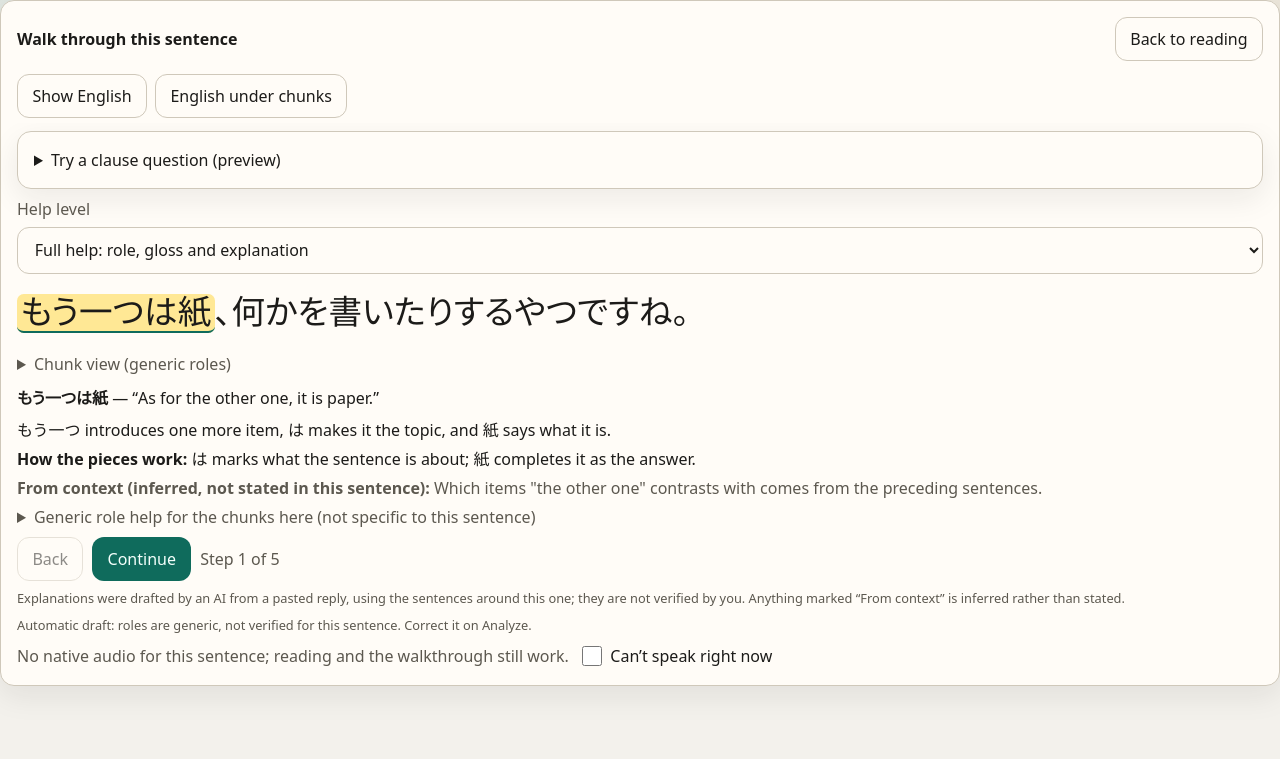
SentenceWalkthrough › leads with the contextual explanation, keeps the sentence visible with the span highlighted, and ends with the natural meaning
This screenshot has width=1280, height=759.
expect the element named "Sentence walkthrough" shows "As for the other one, it is paper.": met, box [138,387,373,409]
expect the text "もう一つは紙" next to "、何かを書いたりするやつですね。" is shown: met, box [20,294,211,331]
Click the button "Continue" at (142, 559), box [92,537,191,581]
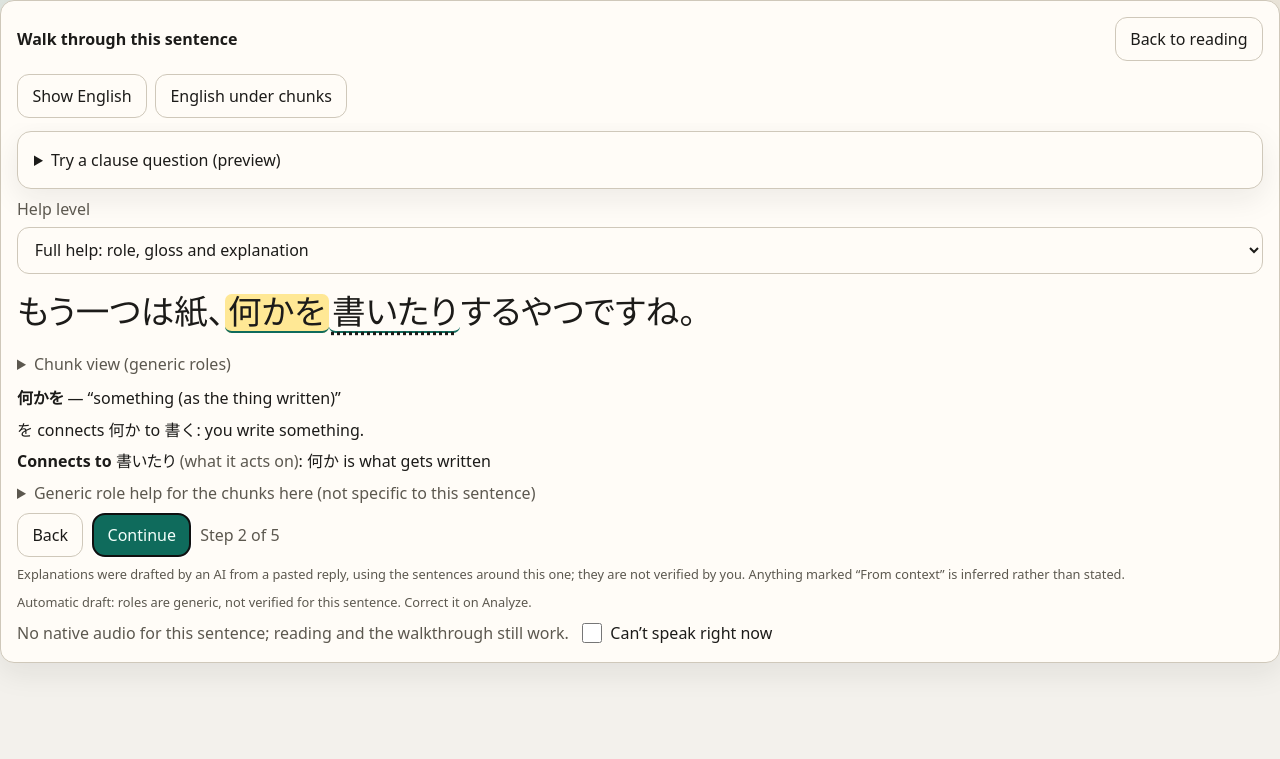
Click the button "Continue" at (142, 536), box [92,514,191,558]
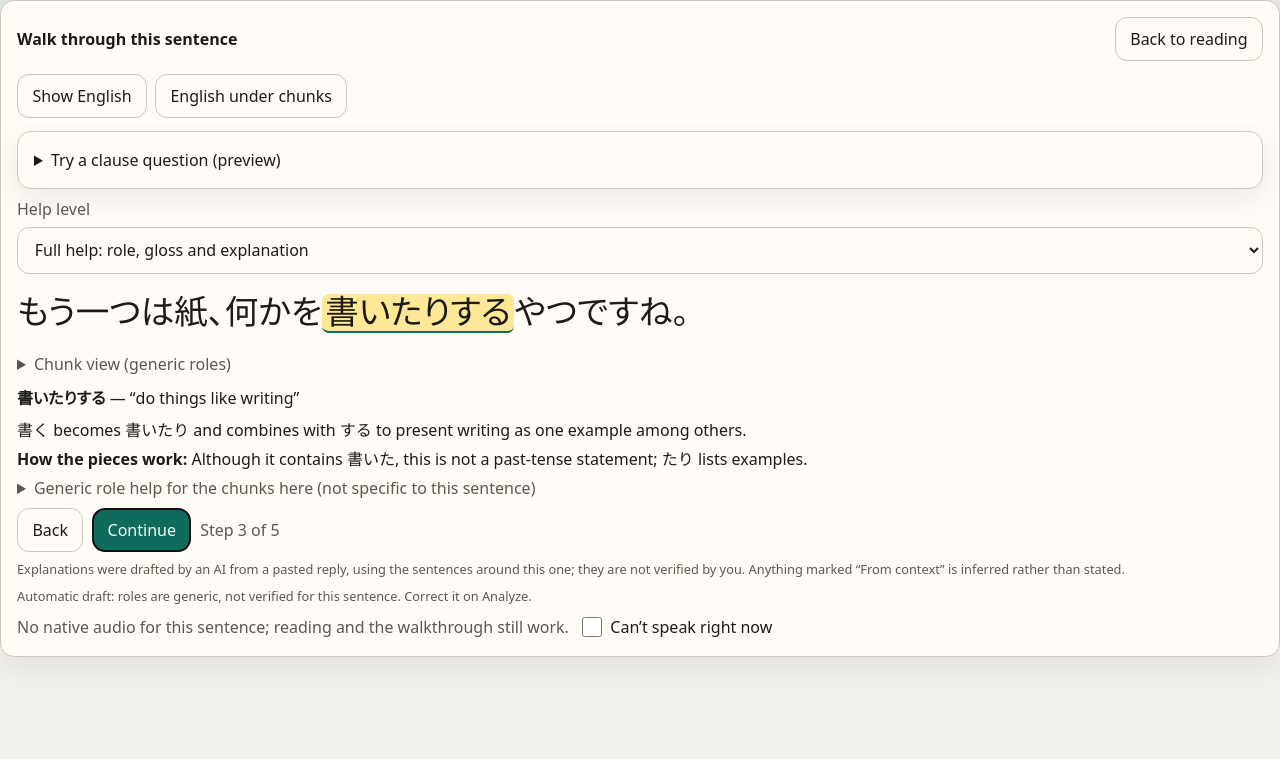
Click the button "Continue" at (142, 530), box [92,508,191,552]
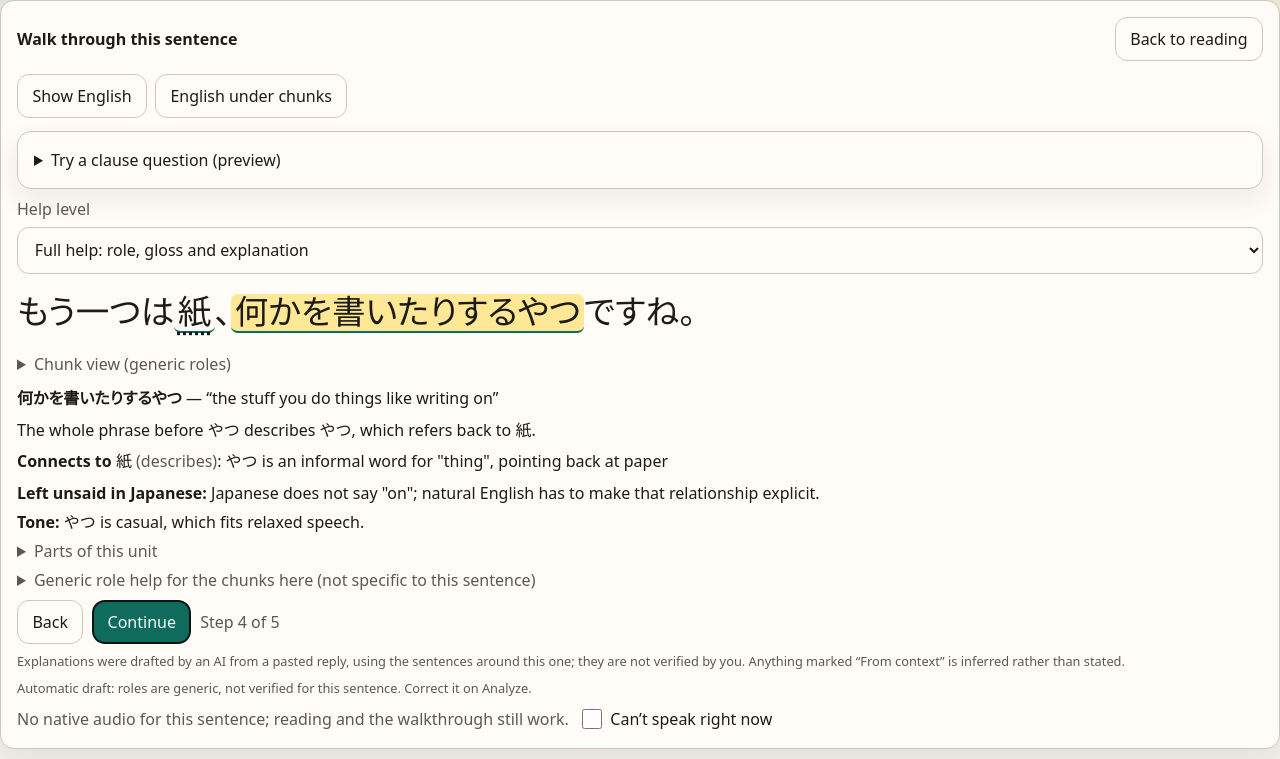
expect the element named "Sentence walkthrough" shows "Left unsaid in Japanese": met, box [17,482,211,504]
expect the text "紙" next to "もう一つは" is shown: met, box [178,294,211,331]
expect the text "何かを書いたりするやつ" next to "ですね。" is shown: met, box [235,294,581,331]
Click the button "Continue" at (142, 622), box [92,600,191,644]
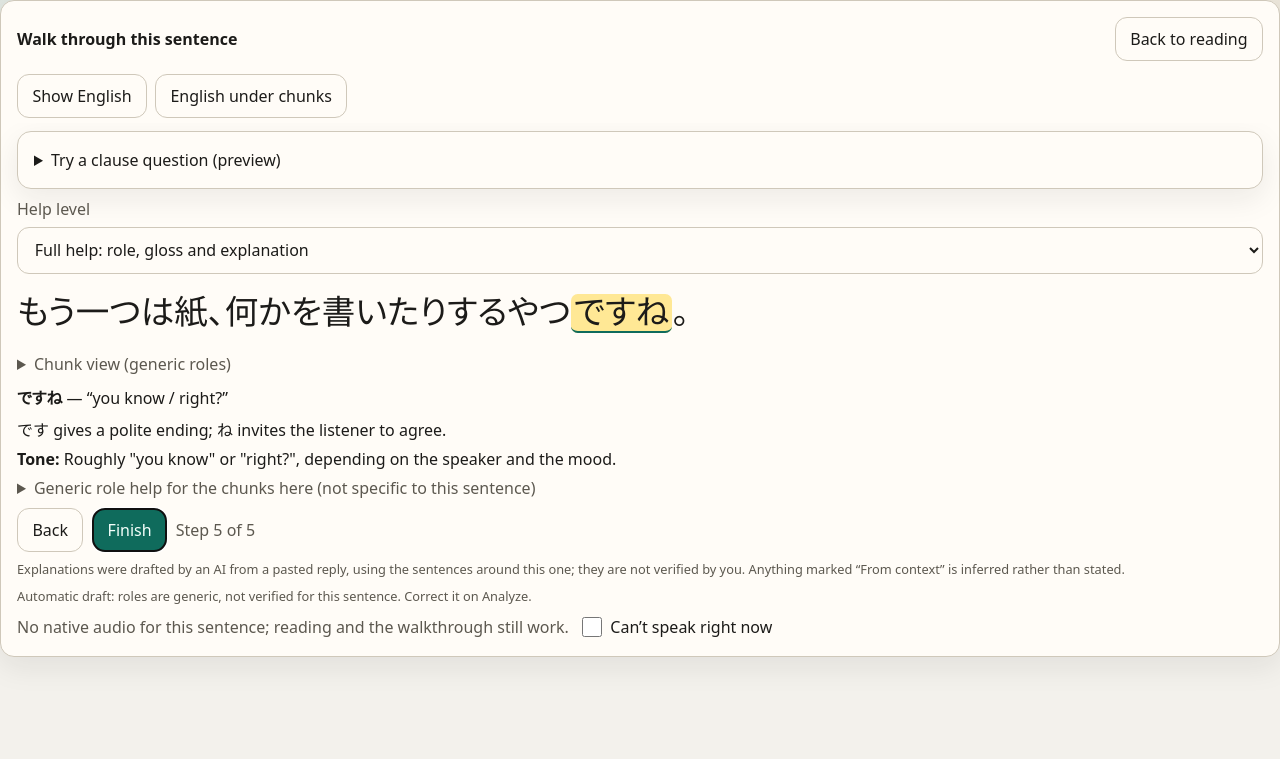
Click the button "Finish" at (130, 530), box [92,508,167,552]
(page scrolled)
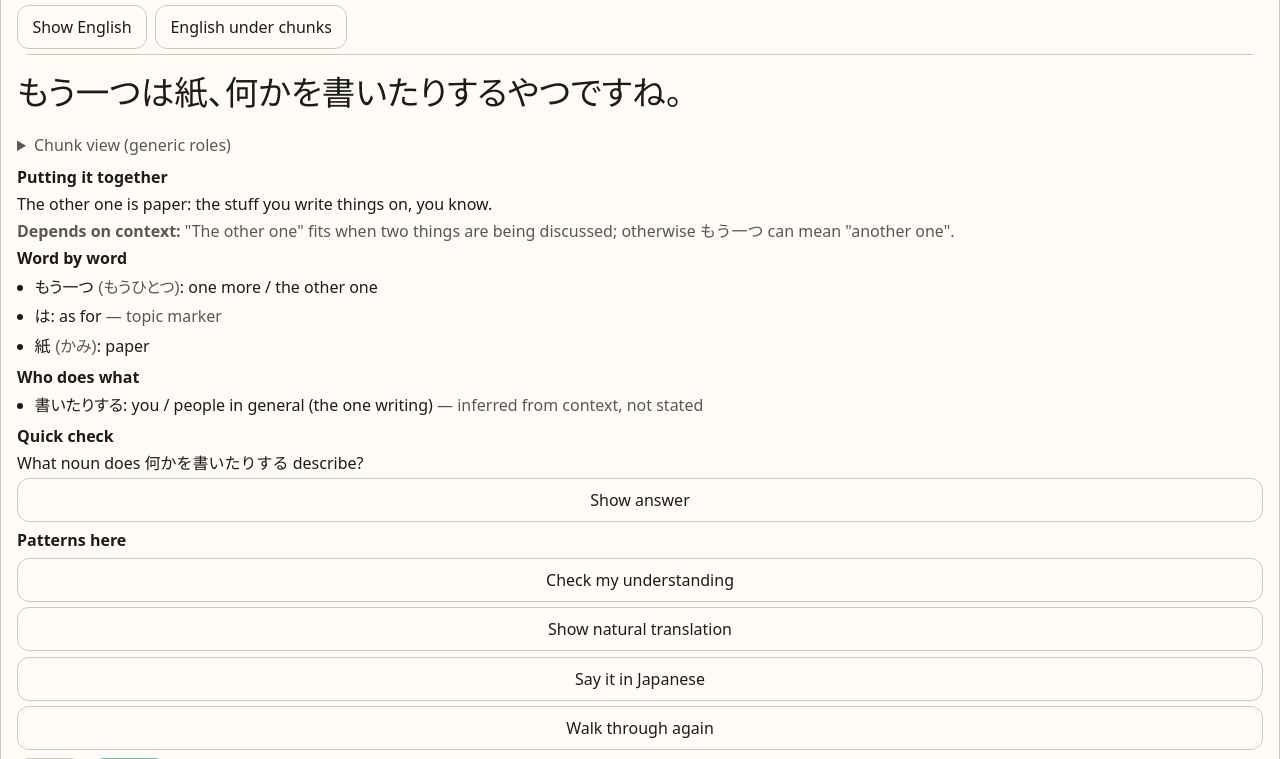
expect the element named "Sentence walkthrough" shows "Putting it together": met, box [17,166,168,188]
expect the element named "Sentence walkthrough" shows "the stuff you write things on, you know": met, box [17,193,492,215]
expect the element named "Sentence walkthrough" shows "Depends on context": met, box [17,220,185,242]
